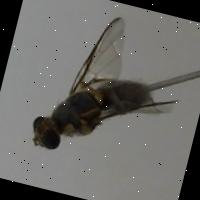Oriental-fruit-fly: (16, 0, 200, 185)
